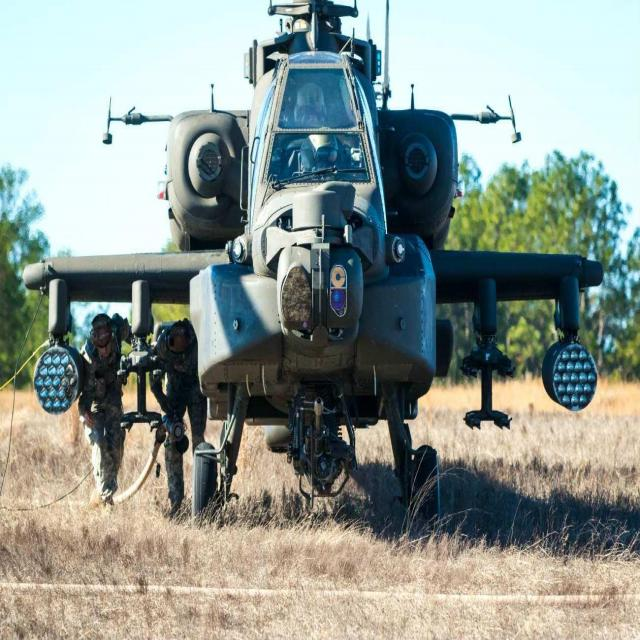MIL_HELO: (14, 0, 627, 520)
